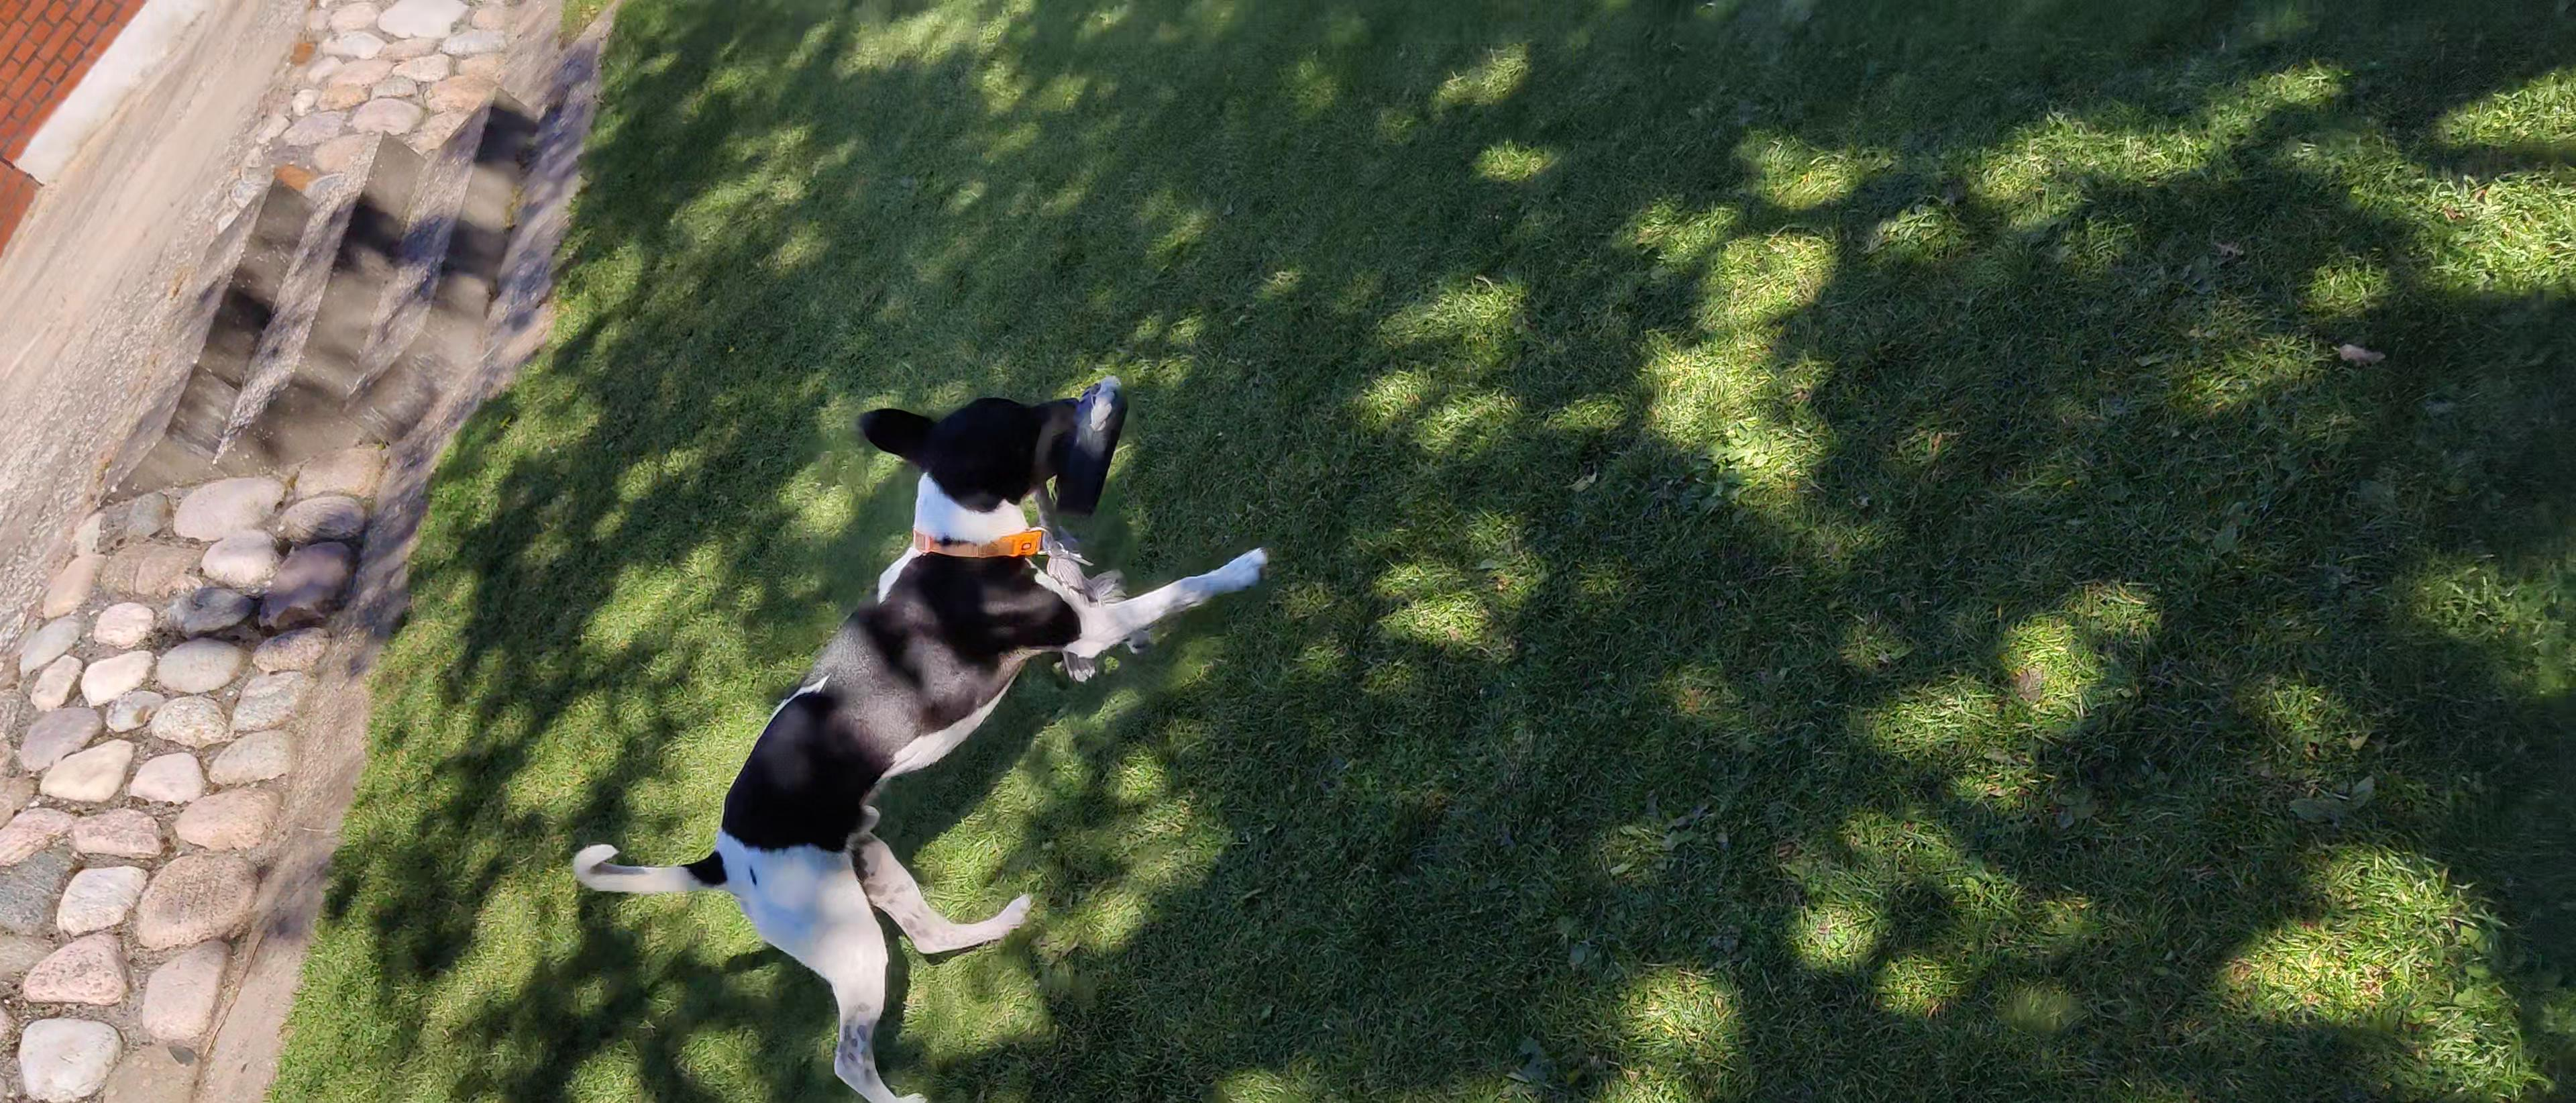Dog: (567, 395, 1273, 1103)
